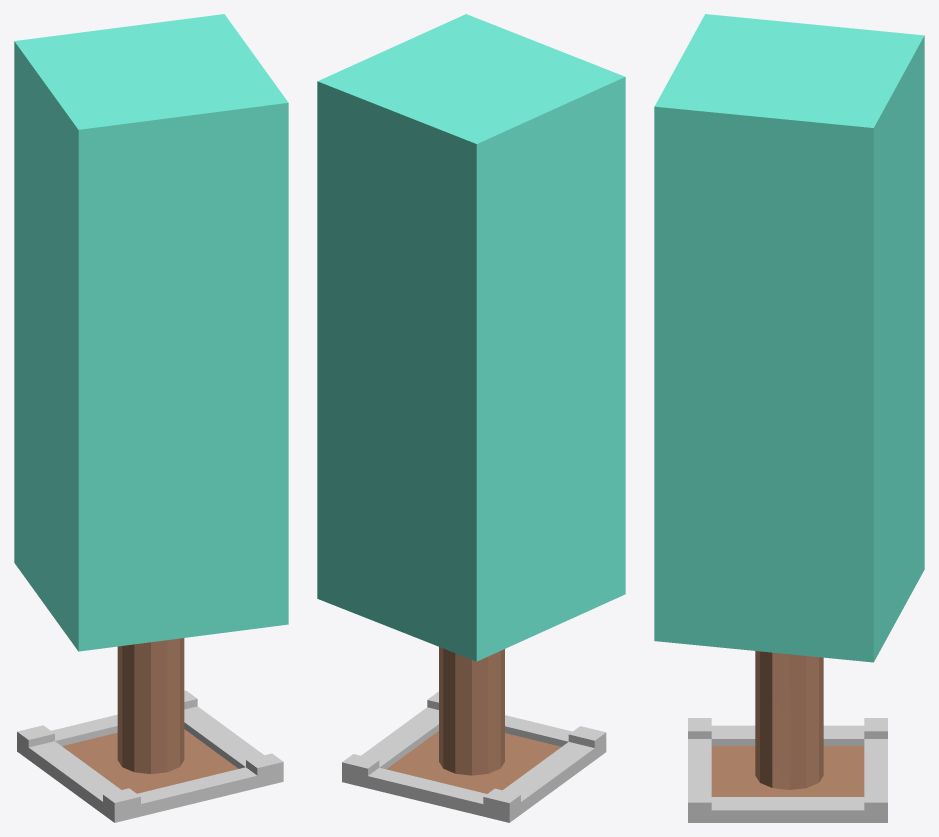
The model's file is Tree 2.fbx.
The picture shows the model from 3 angles, left to right: view 1: azimuth 30°, elevation 25°; view 2: azimuth 150°, elevation 25°; view 3: azimuth 270°, elevation 25°; orthographic projection. The views are drawn at different scales.
Parts seen in each view (by area): view 1: Cylinder.002; view 2: Cylinder.002; view 3: Cylinder.002.
Boxes of the visible parts, x1=… form: Cylinder.002: x1=14, y1=14, x2=288, y2=822; Cylinder.002: x1=317, y1=14, x2=625, y2=822; Cylinder.002: x1=654, y1=14, x2=924, y2=822.
Bounding box in the file's own units: 270 × 789 × 270.
